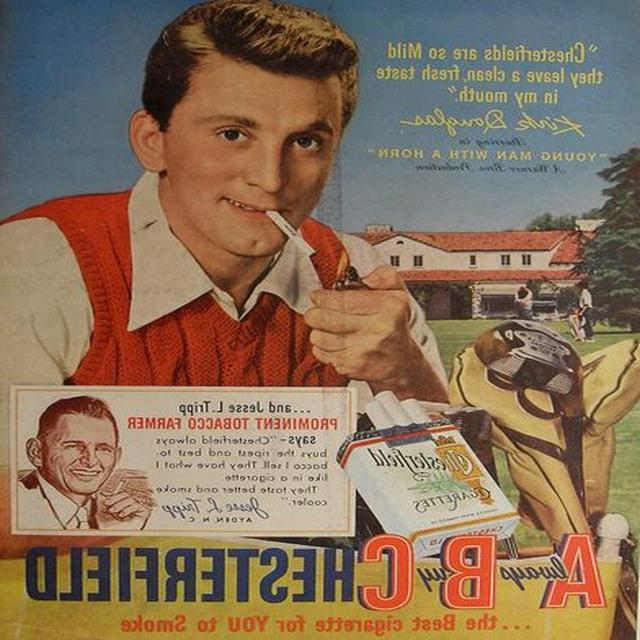smoking: (146, 9, 406, 325), (25, 390, 135, 532)
